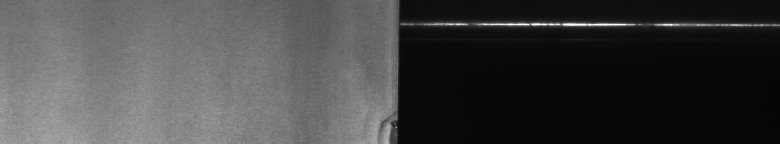hb: (372, 112, 388, 136)
